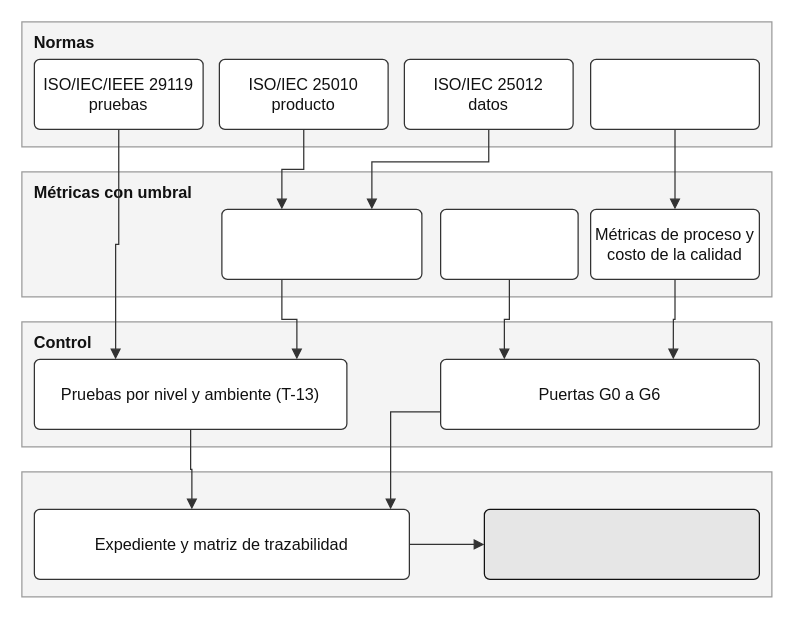
Image size: 794x619. Some labels were removed from this diagram. Here are the shapes that lost their labels. From the top down, the box of each, then its label:
(589, 58, 759, 129): PMBOK cap. 8 proceso
(221, 208, 422, 279): 42 métricas de producto y datos (Anexo 9.A)
(439, 208, 578, 279): 8 métricas de código bloqueantes
(21, 471, 772, 597): Aceptación
(483, 508, 759, 579): Acta por hito (T-17)
